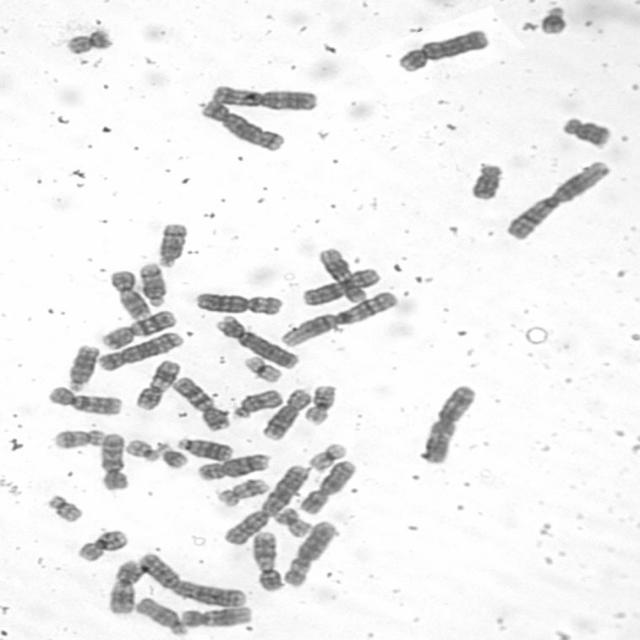A1: (500, 158, 613, 241), (277, 288, 400, 348)
A2: (220, 462, 314, 547), (131, 550, 249, 608)
A3: (418, 382, 478, 464), (207, 82, 318, 112)
B4: (212, 313, 301, 371), (393, 26, 490, 74)
B5: (196, 99, 288, 152), (95, 328, 185, 372)
C10: (45, 383, 124, 417), (96, 429, 130, 491)
C11: (133, 358, 181, 412), (104, 557, 142, 615)
C12: (316, 246, 367, 304), (178, 603, 254, 629)
C6: (278, 518, 339, 588), (192, 289, 285, 316)
C7: (169, 373, 233, 432), (99, 306, 178, 351)
C8: (258, 386, 314, 441), (194, 450, 273, 482)
C9: (106, 268, 152, 320), (250, 529, 284, 592)
D13: (64, 342, 102, 391), (174, 434, 234, 462)
D14: (155, 220, 190, 268), (137, 261, 167, 307)
D15: (132, 595, 188, 636), (230, 387, 284, 419)
E16: (74, 526, 130, 562), (300, 381, 339, 426)
E17: (214, 476, 271, 507), (51, 426, 106, 449)
E18: (557, 113, 615, 149), (466, 160, 504, 202)
F19: (240, 353, 285, 384), (306, 440, 348, 472)
F20: (270, 504, 314, 539), (64, 26, 114, 54)
G21: (538, 5, 570, 36), (155, 440, 189, 469)
G22: (44, 492, 85, 524), (125, 437, 162, 462)
X: (296, 459, 358, 515), (298, 266, 382, 306)
